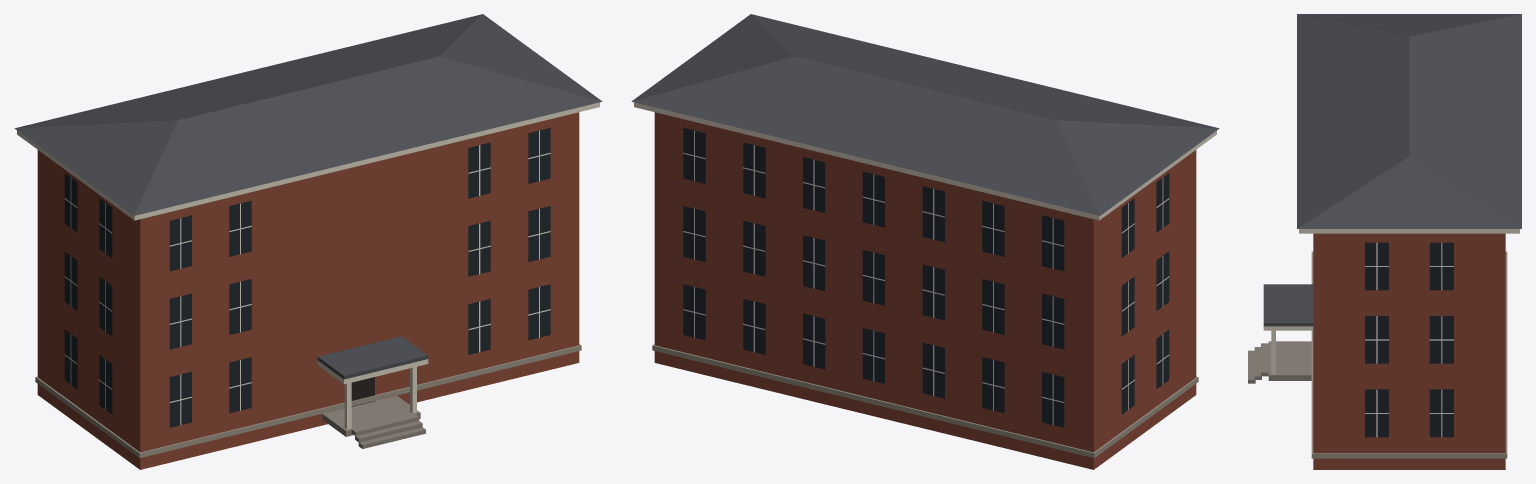
File: ua-medical-department-1913.glb
The picture shows the model from 3 angles, left to right: view 1: azimuth 30°, elevation 25°; view 2: azimuth 150°, elevation 25°; view 3: azimuth 270°, elevation 25°; orthographic projection. The views are drawn at different scales.
Visible parts, largest first — view 1: ua_brick, ua_slate, ua_glass, ua_trim, ua_stone, ua_base, ua_sash; view 2: ua_brick, ua_slate, ua_glass, ua_stone, ua_sash, ua_trim; view 3: ua_slate, ua_brick, ua_glass, ua_base, ua_stone, ua_trim, ua_sash.
Part boxes in pixels (x1,y1,x2,y2): ua_brick: (37,112,579,469); ua_slate: (14,14,602,379); ua_glass: (64,128,550,427); ua_trim: (17,102,599,429); ua_stone: (35,344,581,458); ua_base: (322,395,425,448); ua_sash: (64,130,550,425); ua_brick: (654,112,1196,469); ua_slate: (631,14,1219,215); ua_glass: (683,128,1169,427); ua_stone: (652,344,1198,458); ua_sash: (683,130,1169,425); ua_trim: (634,102,1216,220); ua_slate: (1263,14,1521,326); ua_brick: (1313,233,1505,469); ua_glass: (1365,242,1453,437); ua_base: (1248,341,1311,383); ua_stone: (1311,251,1507,458); ua_trim: (1263,229,1519,374); ua_sash: (1365,242,1453,437).
Bounding box in the file's own units: 25.1 × 14.86 × 13.51.
